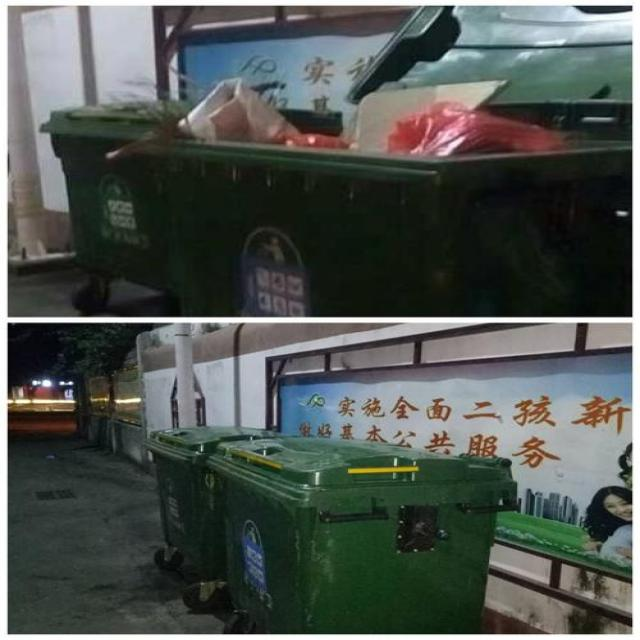garbage_bin: (207, 435, 517, 632), (143, 425, 294, 574), (44, 105, 162, 286)
overflow: (128, 78, 628, 313)
